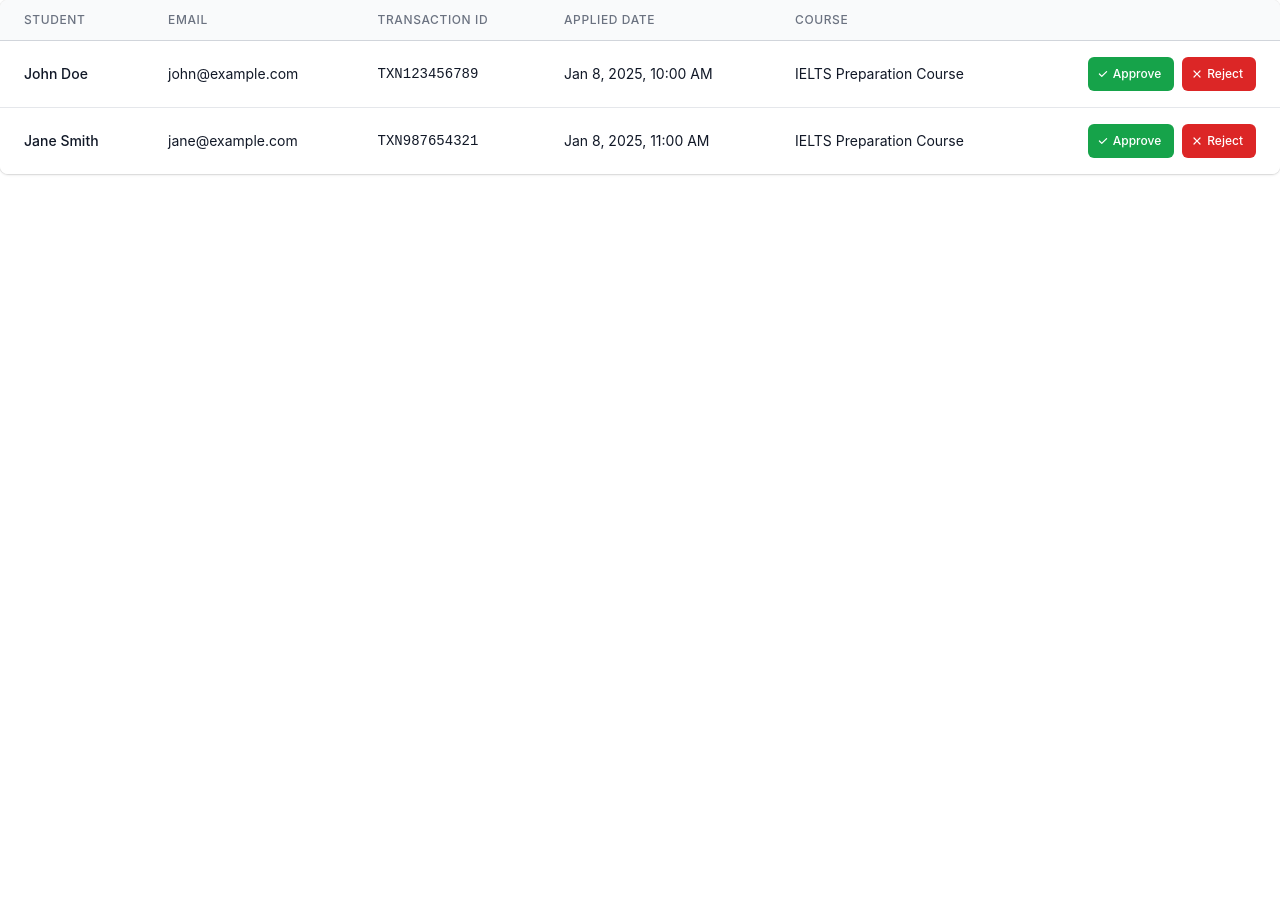
Test case: EnrollmentTable › shows confirmation dialog before rejection
Step 1. Click the button "Reject" in the row of "John Doe" → {"x": 1219, "y": 74}, box x1=1182 y1=57 x2=1256 y2=91
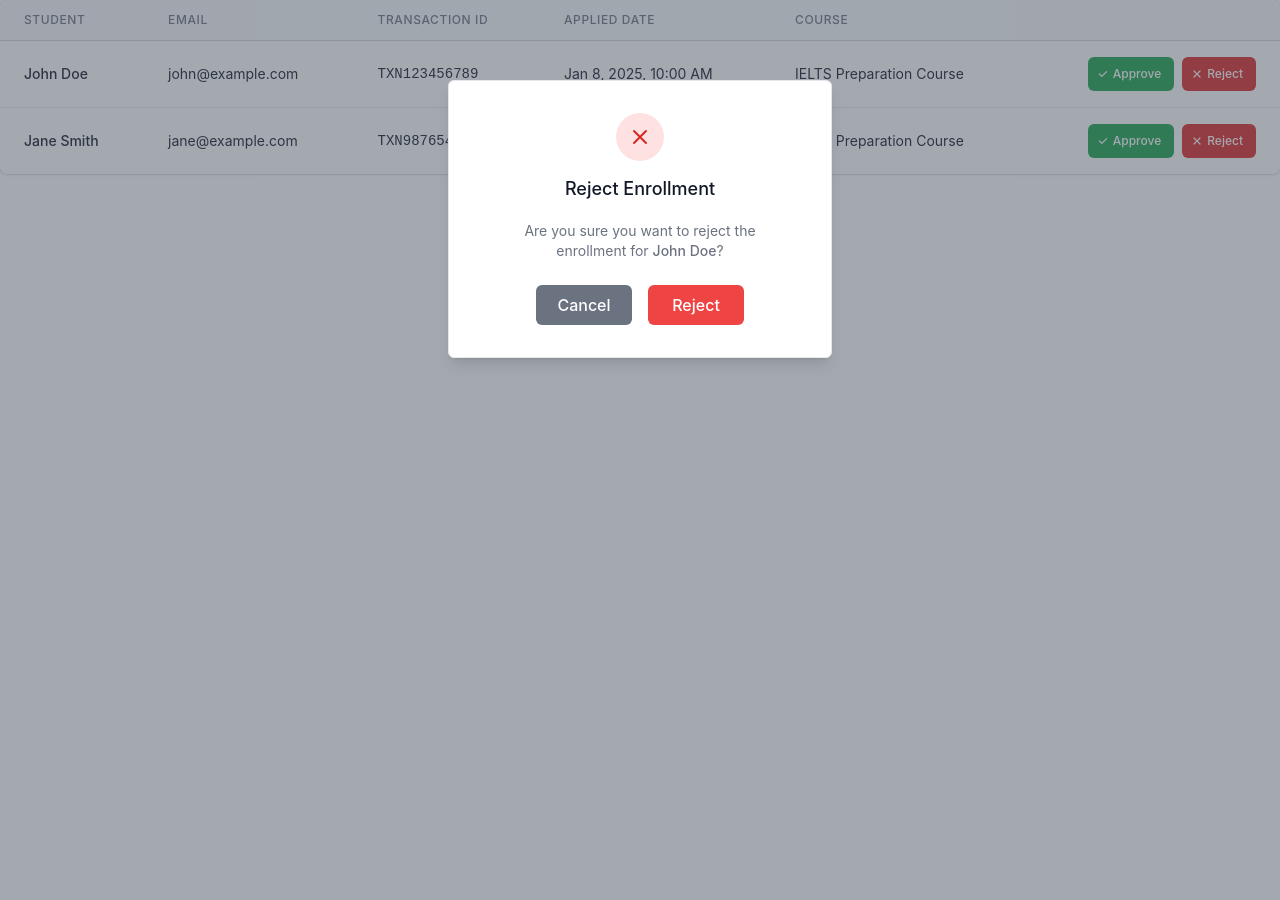
Check: the heading "Reject Enrollment" is shown, box x1=565 y1=178 x2=715 y2=199
Check: the text "Are you sure you want to reject the enrollment for John Doe?" is shown, box x1=524 y1=222 x2=756 y2=259
